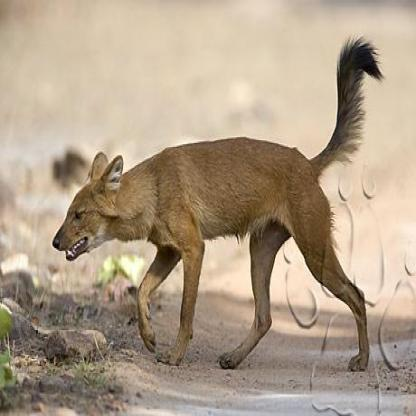dhole: (52, 36, 382, 368)
